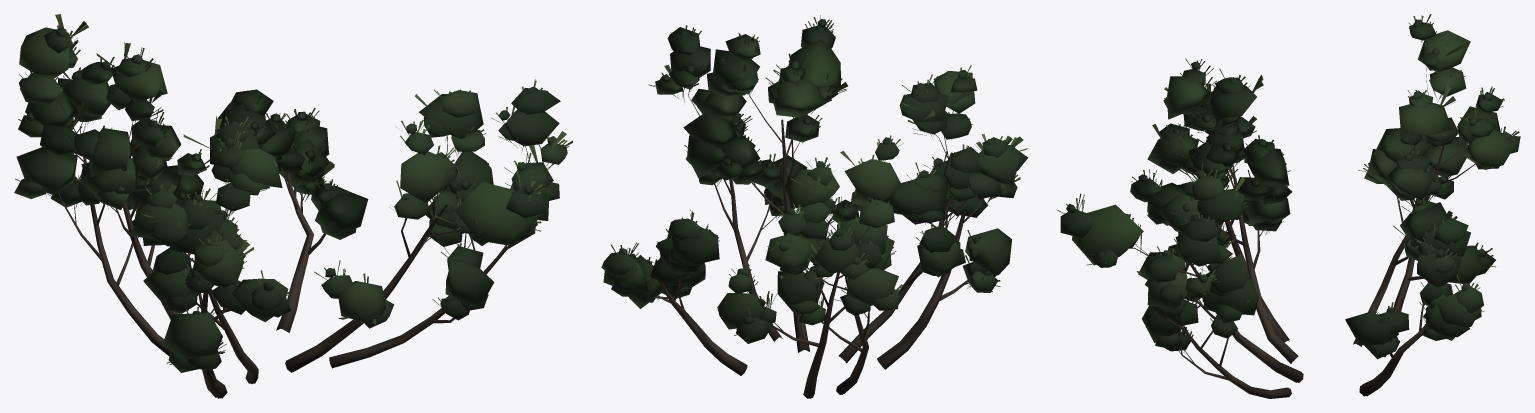
The model's file is mountain-pine.glb.
3 views of the same model, side by side, from view 1: azimuth 30°, elevation 25°; view 2: azimuth 150°, elevation 25°; view 3: azimuth 270°, elevation 25° (orthographic). The views are drawn at different scales.
Visible parts, largest first — view 1: mountain-pine, mountain-pine-lo; view 2: mountain-pine, mountain-pine-lo; view 3: mountain-pine-lo, mountain-pine.
Boxes of the visible parts, bbox=[...] form: mountain-pine: bbox=[14, 14, 569, 398]; mountain-pine-lo: bbox=[16, 14, 572, 398]; mountain-pine: bbox=[601, 15, 1027, 398]; mountain-pine-lo: bbox=[603, 39, 1027, 398]; mountain-pine-lo: bbox=[1072, 30, 1515, 398]; mountain-pine: bbox=[1057, 14, 1520, 398].
Bounding box in the file's own units: 4.05 × 3.11 × 4.35.
